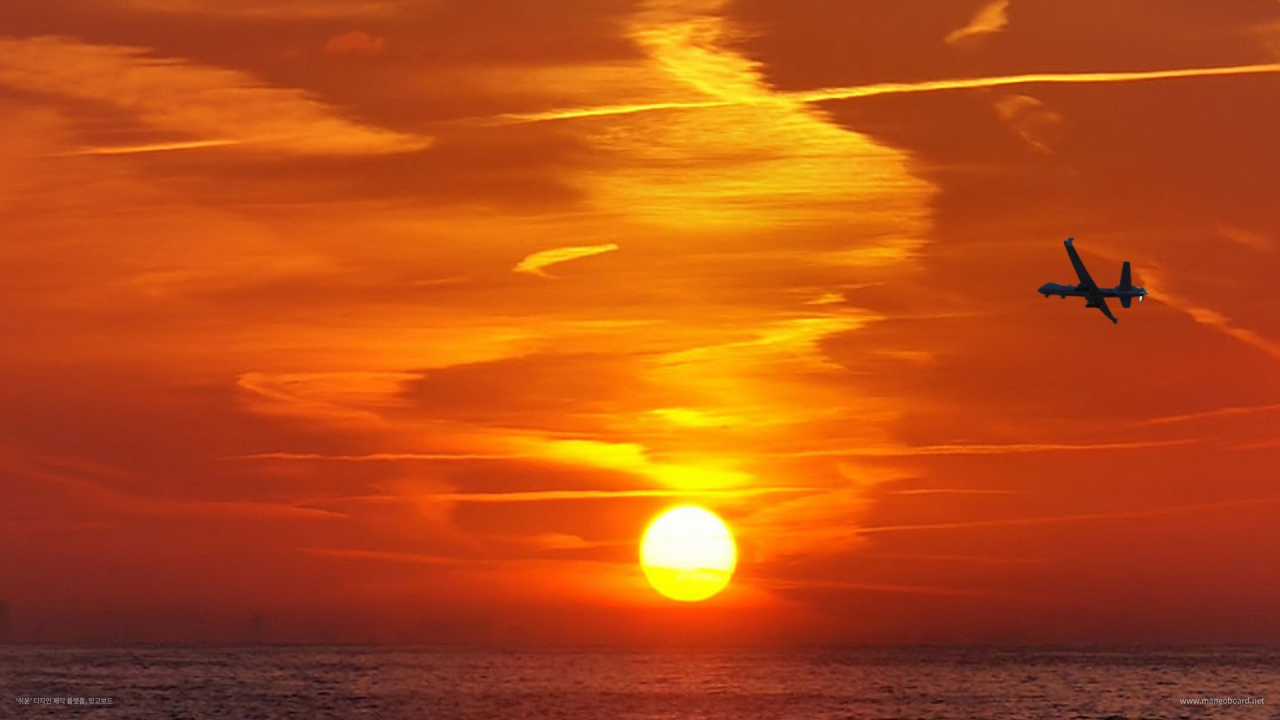military drone: (1037, 235, 1149, 324)
